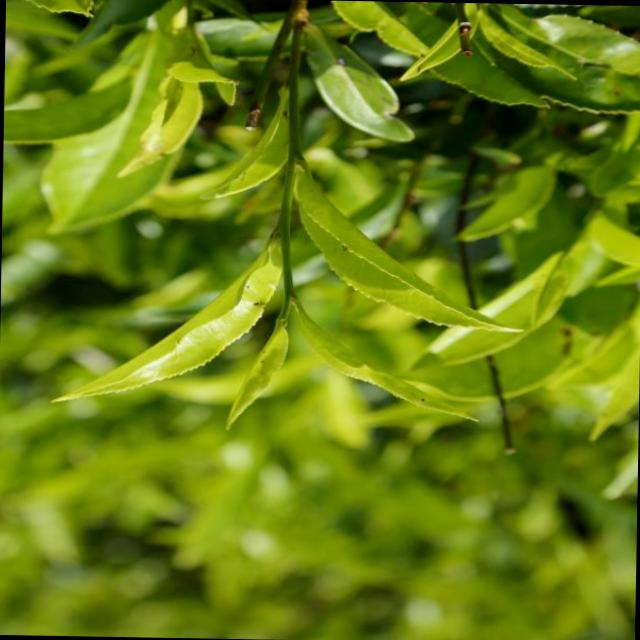Stem: (283, 284, 296, 300)
